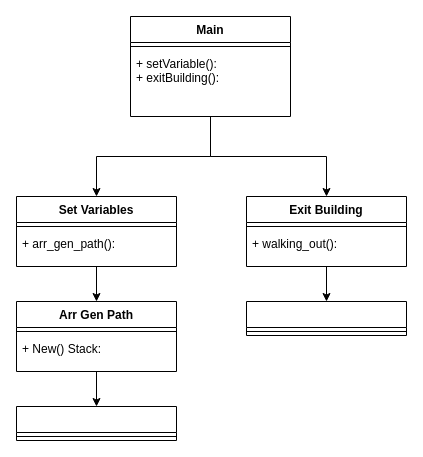
Image size: 423x457. Some labels were removed from this diagram. Each missing label, with the centre of its shape:
New Stack: the point at 96,423
Walking Out: the point at 326,318
